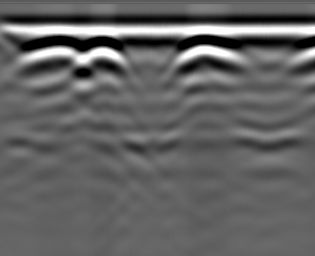steel: (172, 35, 247, 70), (82, 35, 126, 70), (23, 36, 75, 65)
